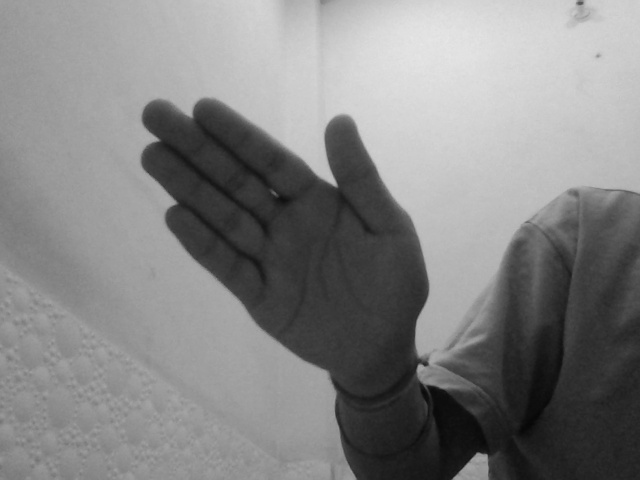Hello: (138, 95, 433, 368)
